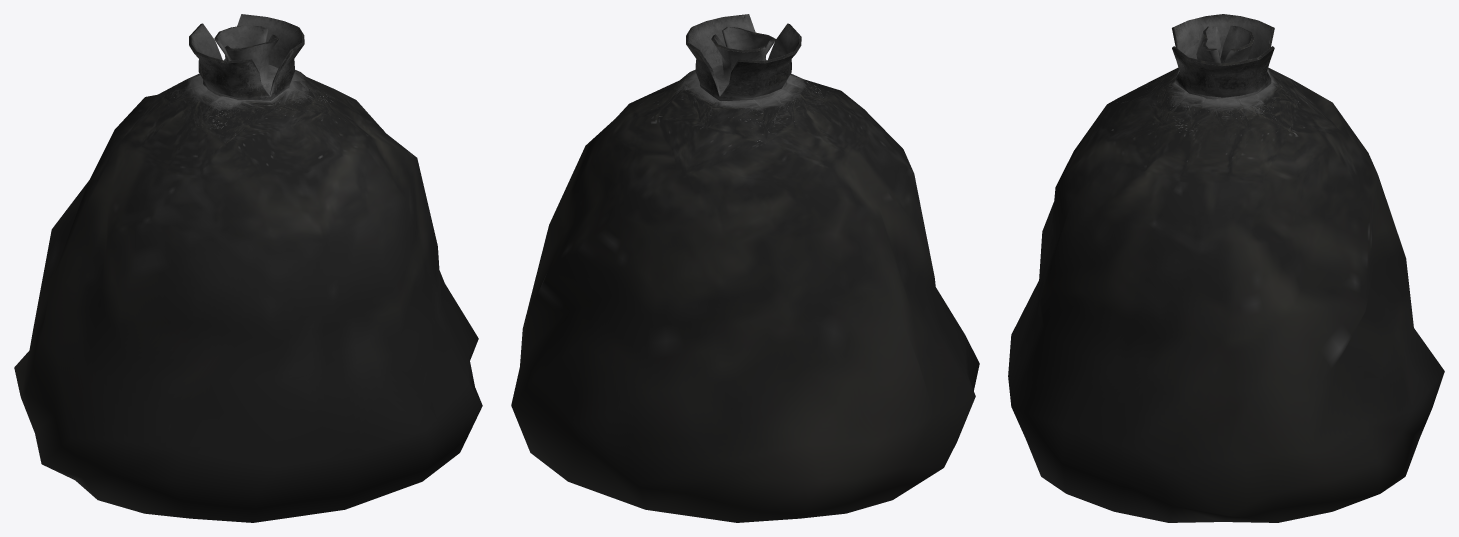
The model's file is Bag trash.fbx.
3 renders of one model, left to right at view 1: azimuth 30°, elevation 25°; view 2: azimuth 150°, elevation 25°; view 3: azimuth 270°, elevation 25°, orthographic.
Visible parts, largest first — view 1: Cube; view 2: Cube; view 3: Cube.
Boxes of the visible parts, box(x1,y1,x2,y2) form: Cube: box(14, 14, 482, 522); Cube: box(511, 14, 979, 522); Cube: box(1008, 14, 1444, 522).
Size of the model in its own units: 90.18 by 89.36 by 83.77.
1 material, 1 textured.
